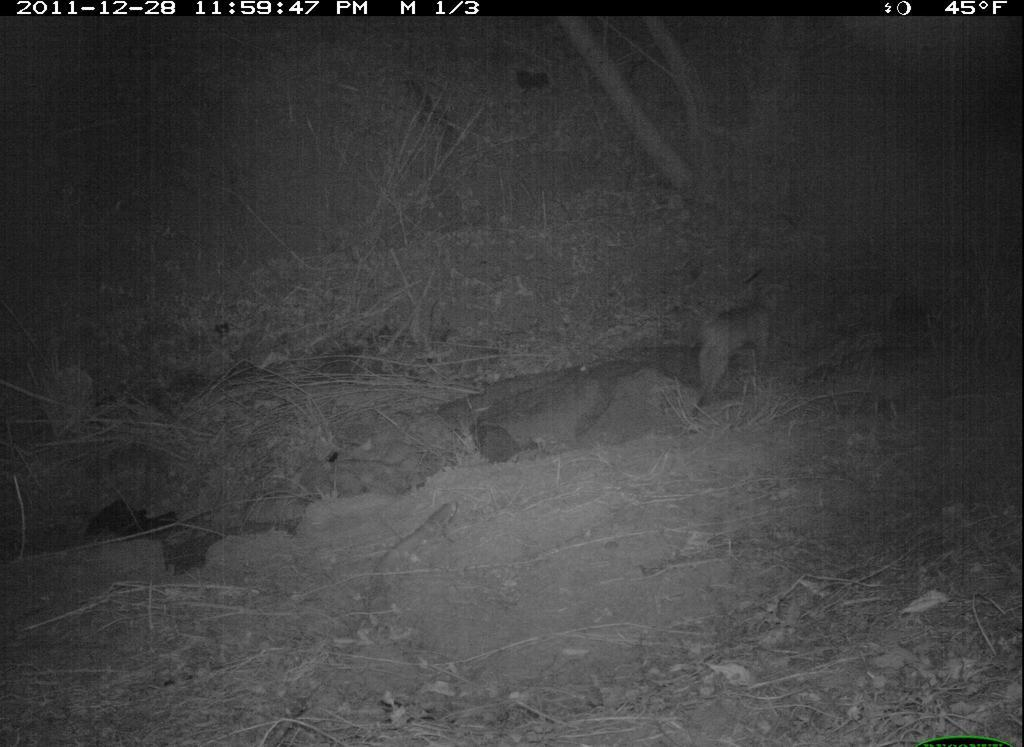bobcat: (686, 274, 791, 421)
